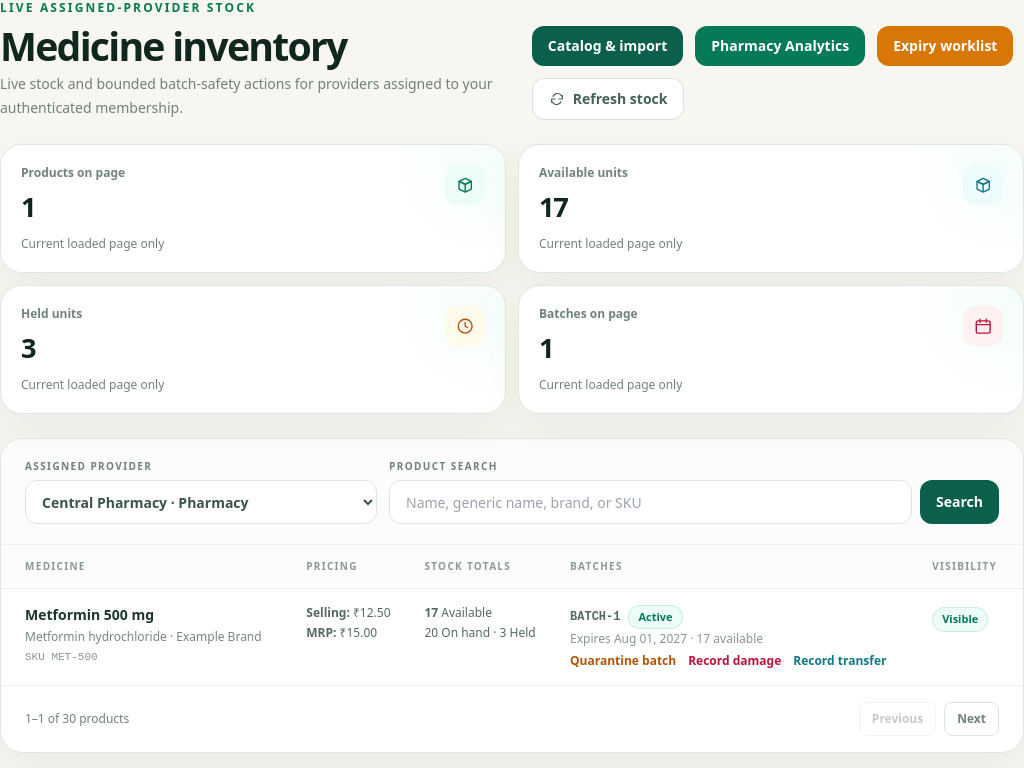
InventoryWorkspace live integration › dismisses the quarantine confirmation dialog on Escape
Click the button with aria-label "Quarantine batch BATCH-1".
click(623, 661)  # box [570,653,676,669]
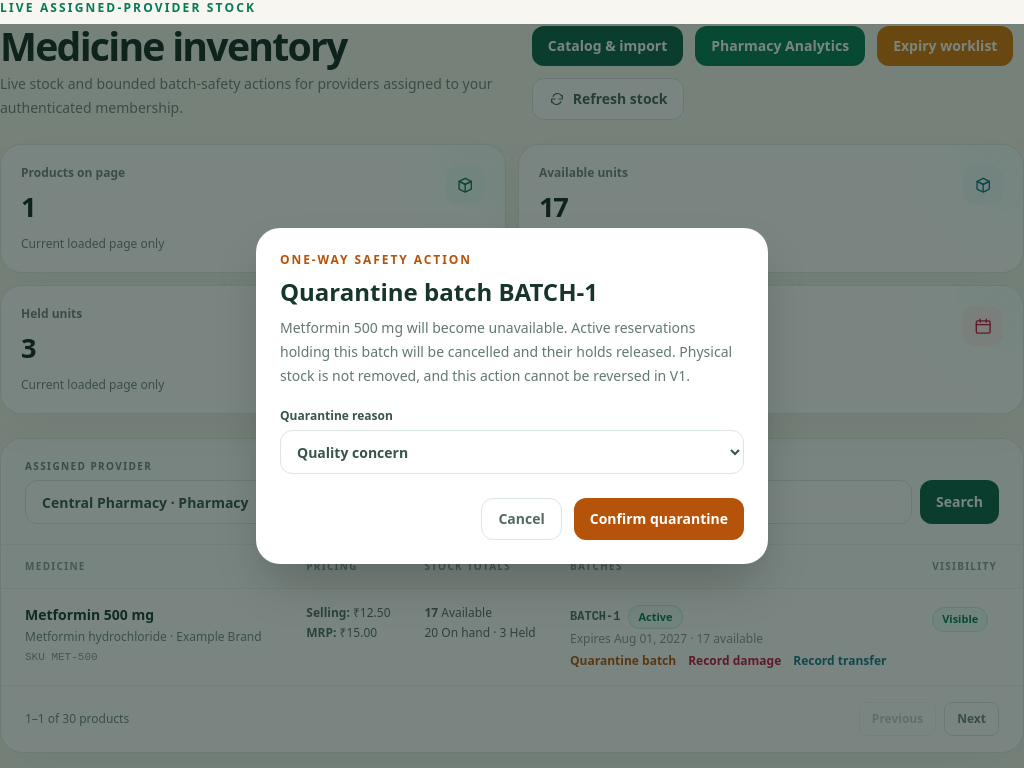
Expected: the dialog is shown
Press Escape
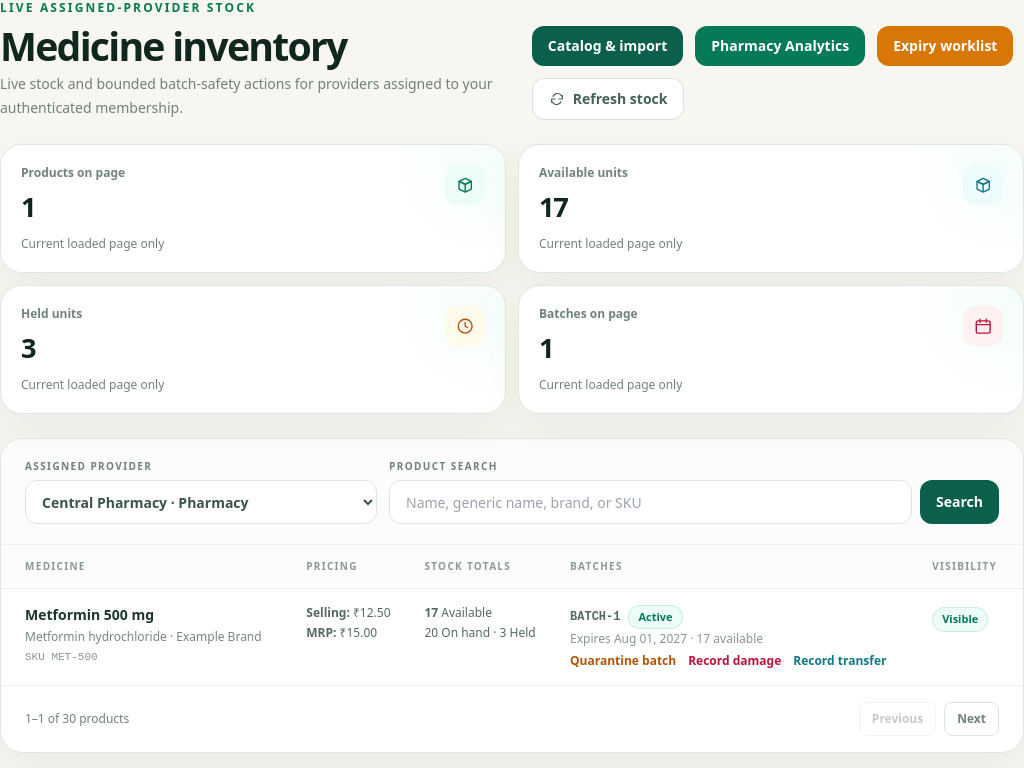
Expected: the dialog is gone
